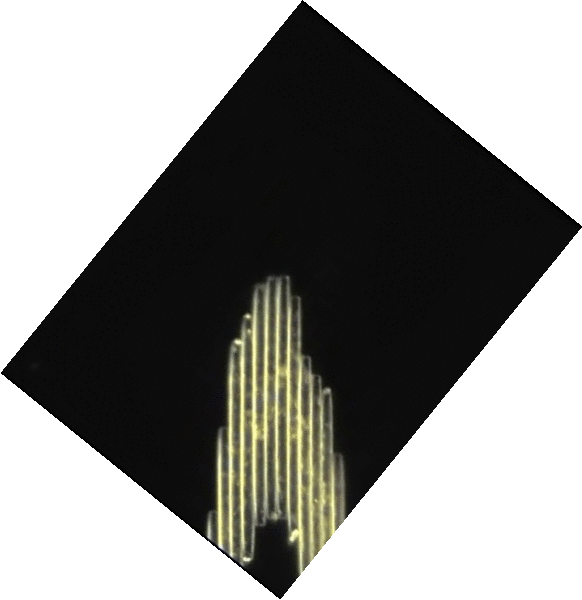bacilleria: (252, 282, 268, 527), (227, 339, 243, 566), (241, 313, 255, 564), (289, 294, 301, 543), (276, 274, 288, 519), (299, 354, 312, 566), (266, 275, 277, 521), (310, 374, 324, 556), (320, 385, 335, 539), (217, 426, 233, 560), (332, 454, 346, 527), (206, 509, 218, 545)
